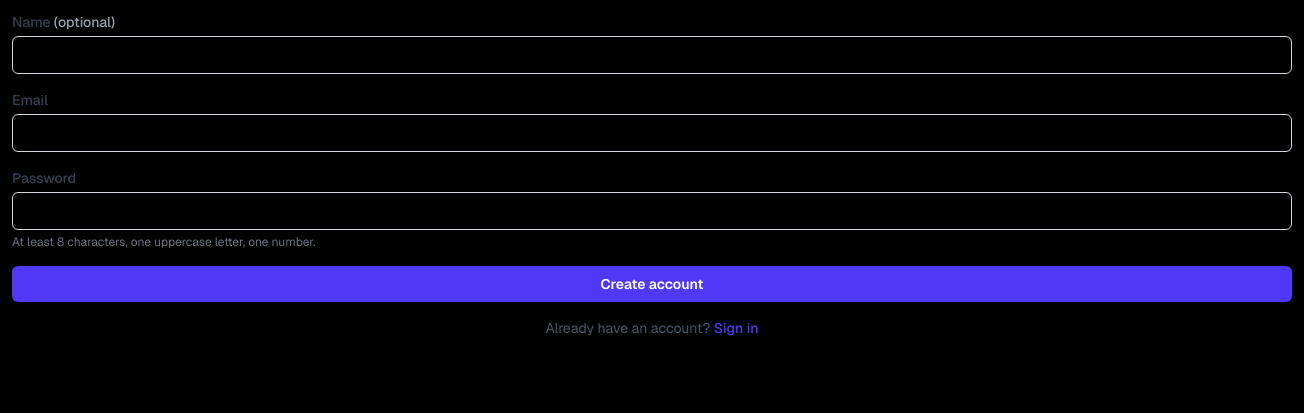
Test: RegisterForm › shows server error banner on 409 duplicate email
Type "new@example.com" into the field labelled "Email" at (652, 133), box [12,114,1292,152]
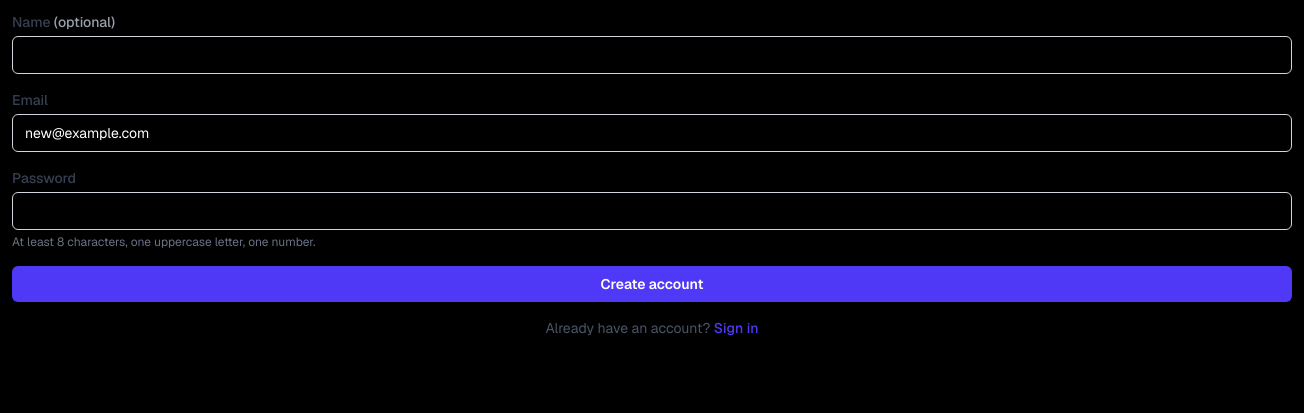
Type "SecurePass1" into the password field labelled "Password" at (652, 211), box [12,192,1292,230]
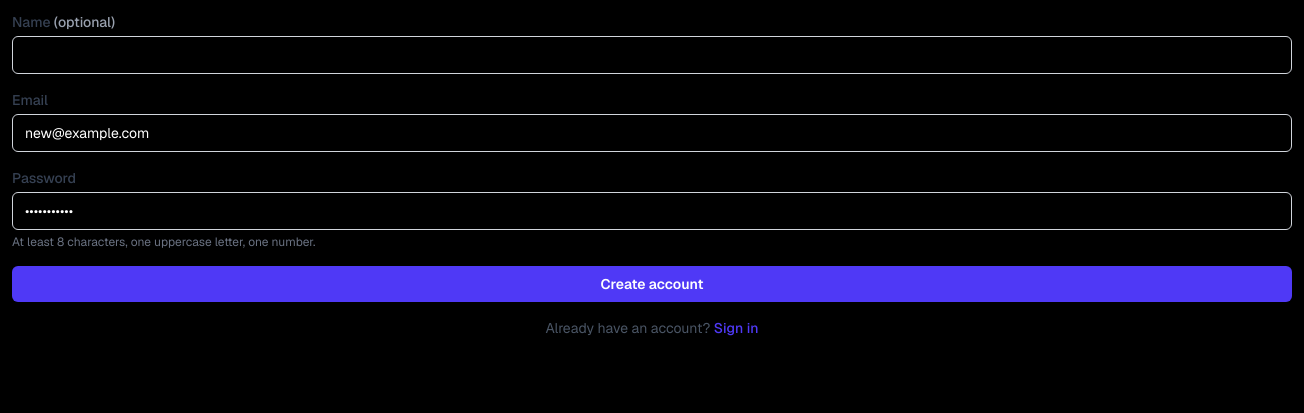
Click the button "Create account" at (652, 284), box [12,266,1292,302]
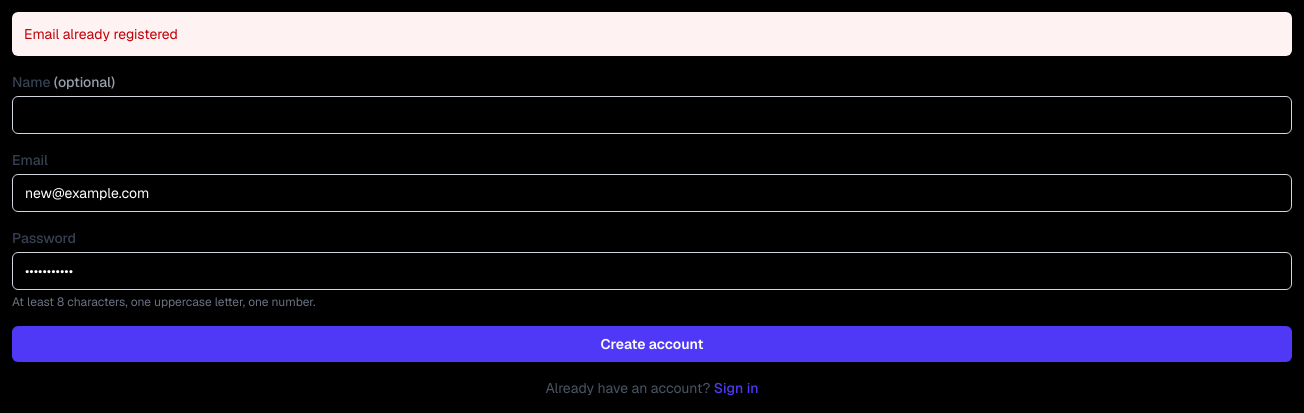
Check: the message reads "Email already registered", box [24,25,178,43]
